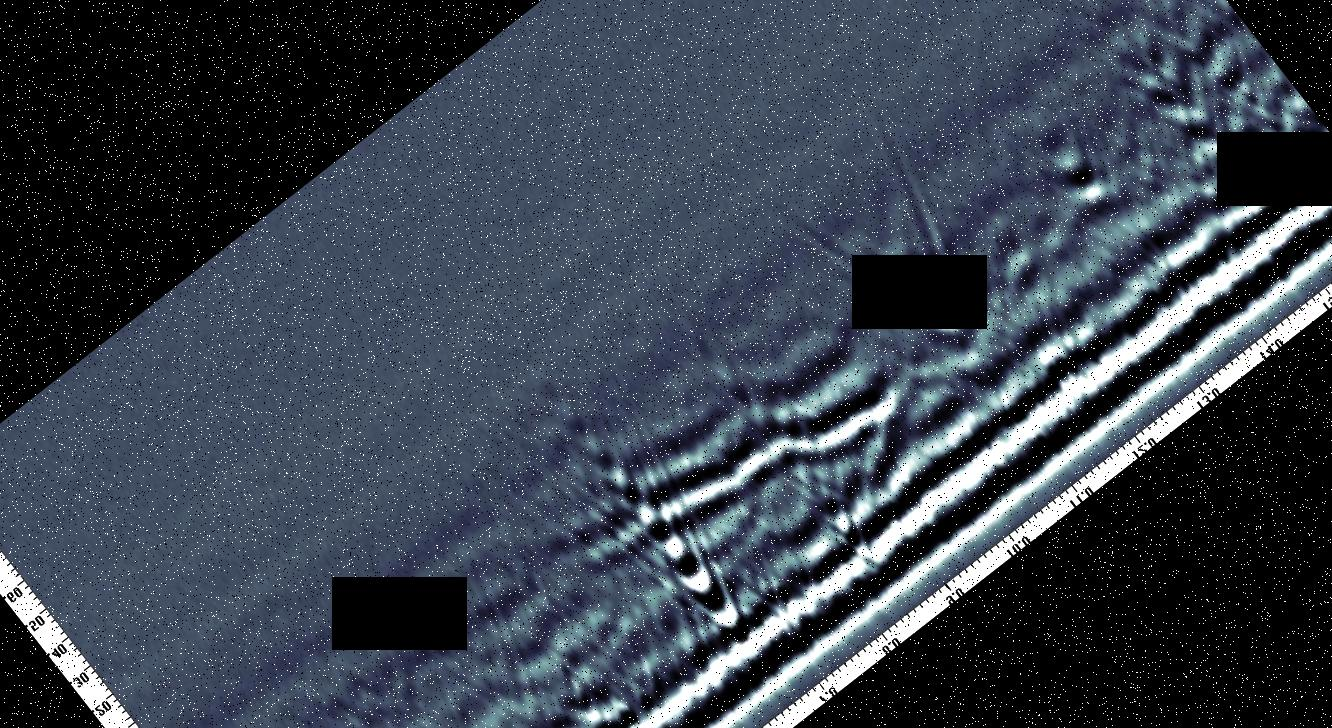Hyperbola: (798, 136, 1031, 388), (600, 460, 777, 655), (994, 105, 1128, 252), (795, 459, 897, 568), (468, 631, 565, 728), (1239, 84, 1313, 159), (1173, 106, 1237, 174), (405, 693, 504, 728)
